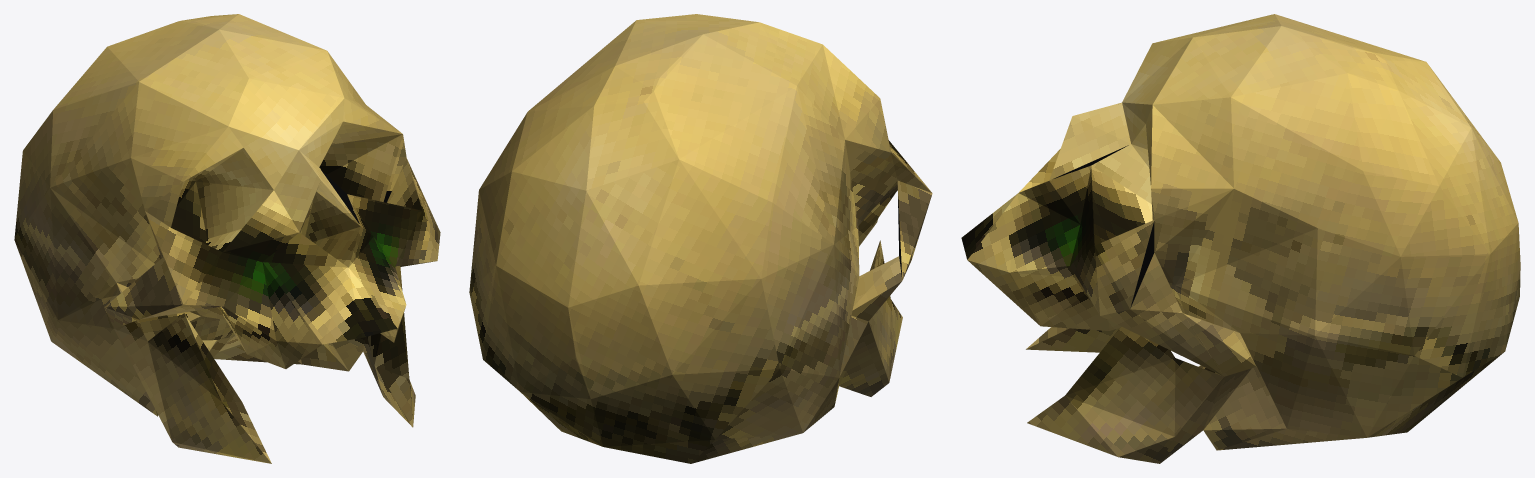
Rendered from slime_skull.glb.
The picture shows the model from 3 angles, left to right: view 1: azimuth 30°, elevation 25°; view 2: azimuth 150°, elevation 25°; view 3: azimuth 270°, elevation 25°; orthographic projection. The views are drawn at different scales.
Visible parts, largest first — view 1: item; view 2: item; view 3: item.
Part boxes in pixels (box(x1,y1,x2,y2)): item: box(14, 14, 440, 463); item: box(469, 14, 932, 463); item: box(961, 14, 1520, 463).
Bounding box in the file's own units: 1.39 × 1.48 × 1.96.
1 material, 1 textured.
